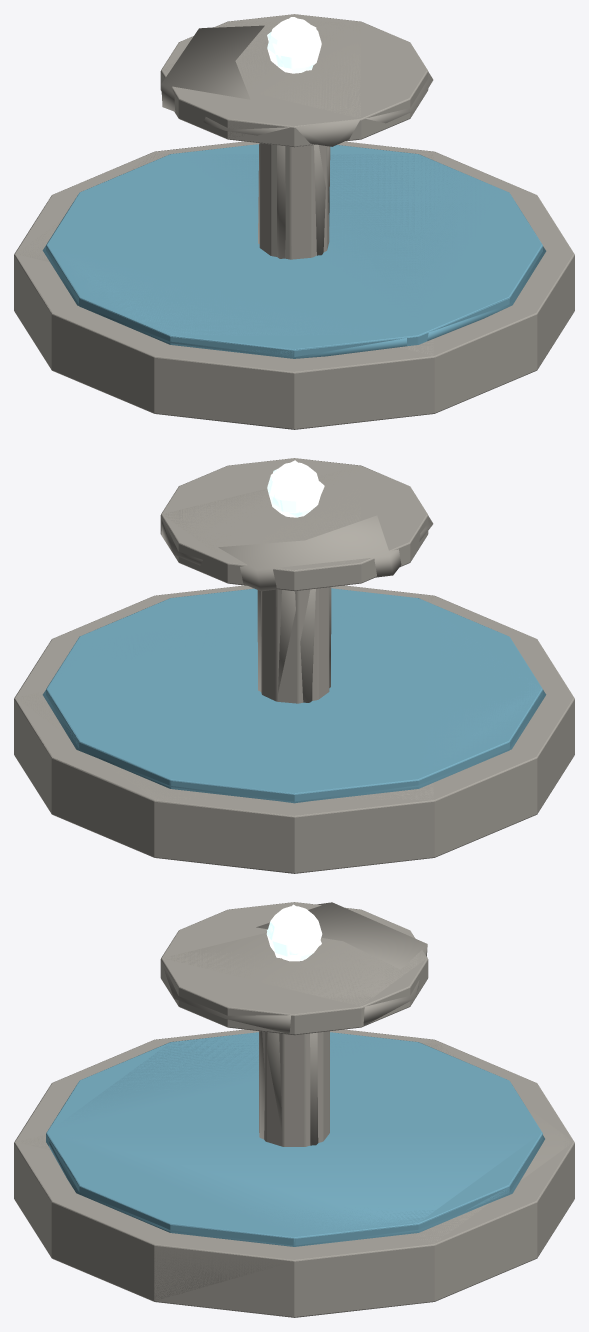
The model's file is SM_Kurpark_Fountain.fbx.
3 renders of one model, top to bottom at view 1: azimuth 30°, elevation 25°; view 2: azimuth 150°, elevation 25°; view 3: azimuth 270°, elevation 25°, orthographic.
Parts seen in each view (by area): view 1: LOD0_SM_Kurpark_Fountain, LOD1_SM_Kurpark_Fountain, LOD3_SM_Kurpark_Fountain, LOD2_SM_Kurpark_Fountain; view 2: LOD0_SM_Kurpark_Fountain, LOD1_SM_Kurpark_Fountain, LOD3_SM_Kurpark_Fountain, LOD2_SM_Kurpark_Fountain; view 3: LOD0_SM_Kurpark_Fountain, LOD1_SM_Kurpark_Fountain, LOD3_SM_Kurpark_Fountain, LOD2_SM_Kurpark_Fountain.
Boxes of the visible parts, box(x1,y1,x2,y2) form: LOD0_SM_Kurpark_Fountain: box(14, 14, 574, 429); LOD1_SM_Kurpark_Fountain: box(14, 14, 574, 429); LOD3_SM_Kurpark_Fountain: box(42, 17, 546, 358); LOD2_SM_Kurpark_Fountain: box(14, 17, 574, 429); LOD0_SM_Kurpark_Fountain: box(14, 458, 574, 873); LOD1_SM_Kurpark_Fountain: box(14, 458, 574, 872); LOD3_SM_Kurpark_Fountain: box(42, 460, 546, 803); LOD2_SM_Kurpark_Fountain: box(14, 461, 574, 873); LOD0_SM_Kurpark_Fountain: box(14, 902, 574, 1317); LOD1_SM_Kurpark_Fountain: box(14, 902, 574, 1317); LOD3_SM_Kurpark_Fountain: box(46, 902, 544, 1246); LOD2_SM_Kurpark_Fountain: box(14, 907, 574, 1317).
Bounding box in the file's own units: 4.4 × 2.55 × 4.4.
